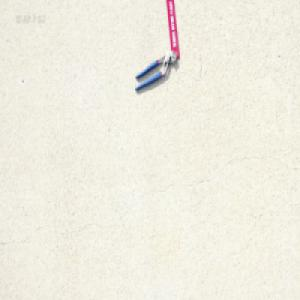Label: (166, 0, 180, 62)
Pliers: (133, 52, 176, 94)
